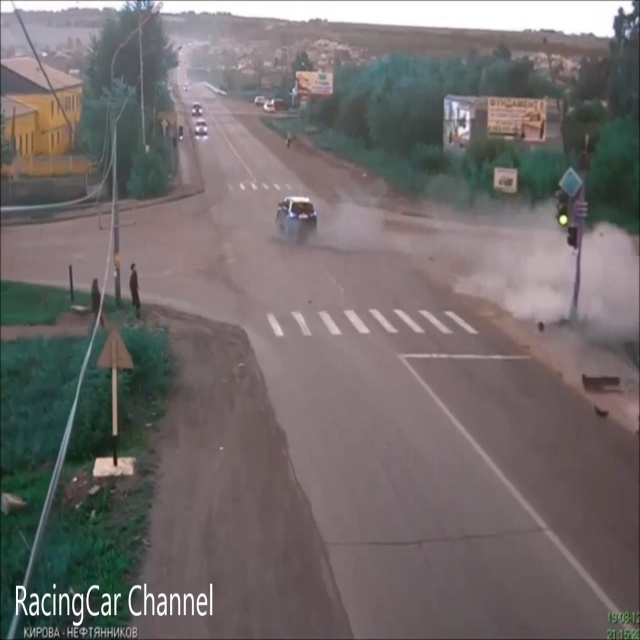acc: (456, 224, 638, 346)
